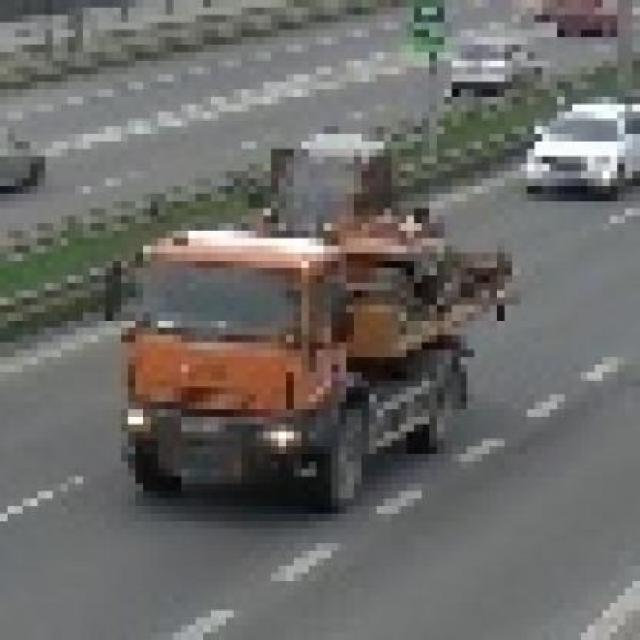truck: (99, 180, 506, 500)
